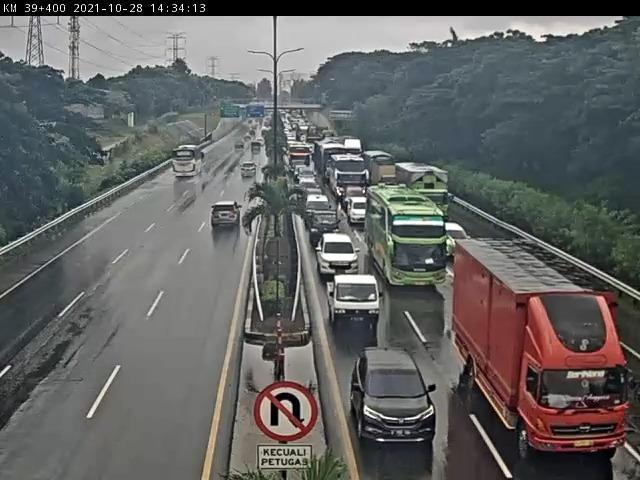bus: (365, 185, 442, 282), (331, 158, 367, 201), (170, 148, 205, 183), (287, 143, 313, 173)
car: (349, 349, 439, 449), (328, 276, 387, 332), (312, 231, 360, 273), (307, 208, 344, 243), (209, 200, 246, 234), (441, 221, 469, 254), (307, 194, 332, 209), (348, 197, 363, 222), (296, 167, 319, 183), (239, 161, 260, 178), (305, 183, 326, 195)
truck: (455, 240, 640, 462), (393, 163, 454, 220), (320, 147, 346, 180), (371, 162, 399, 185)
